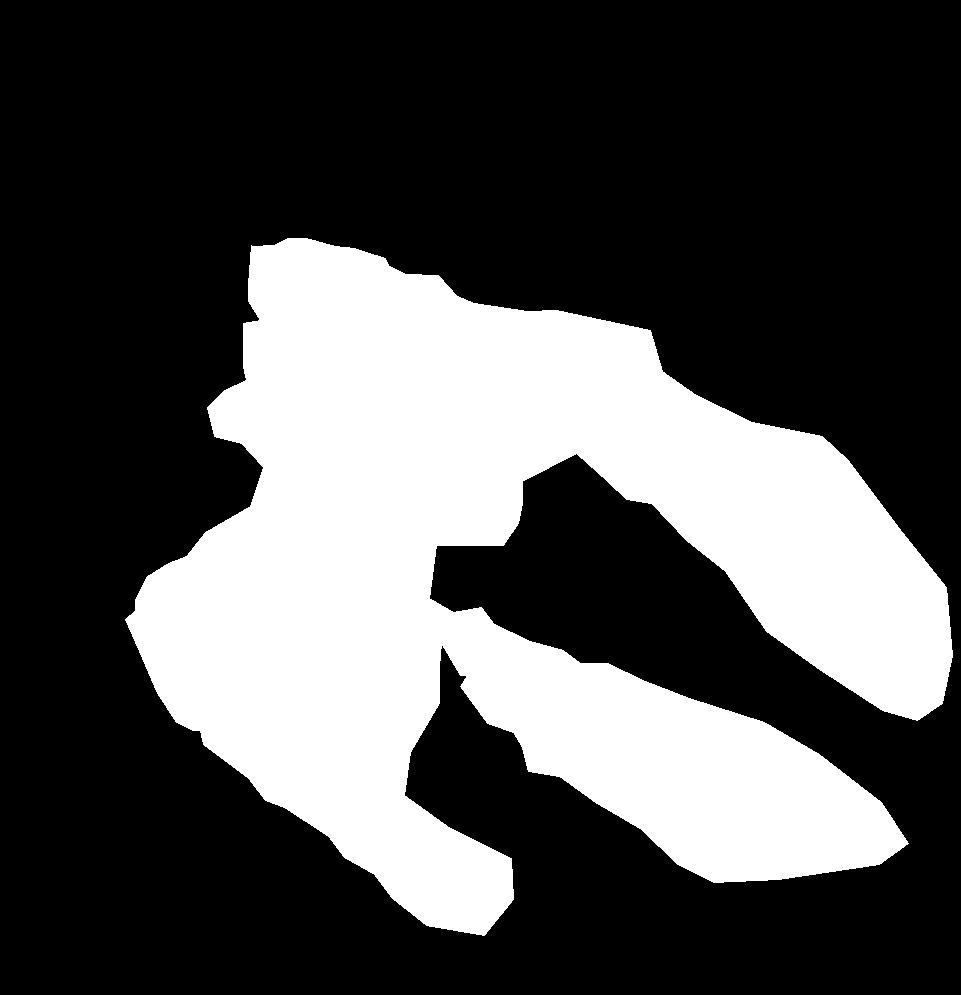Fire: (327, 249, 742, 499), (463, 604, 764, 858), (137, 650, 423, 915)
